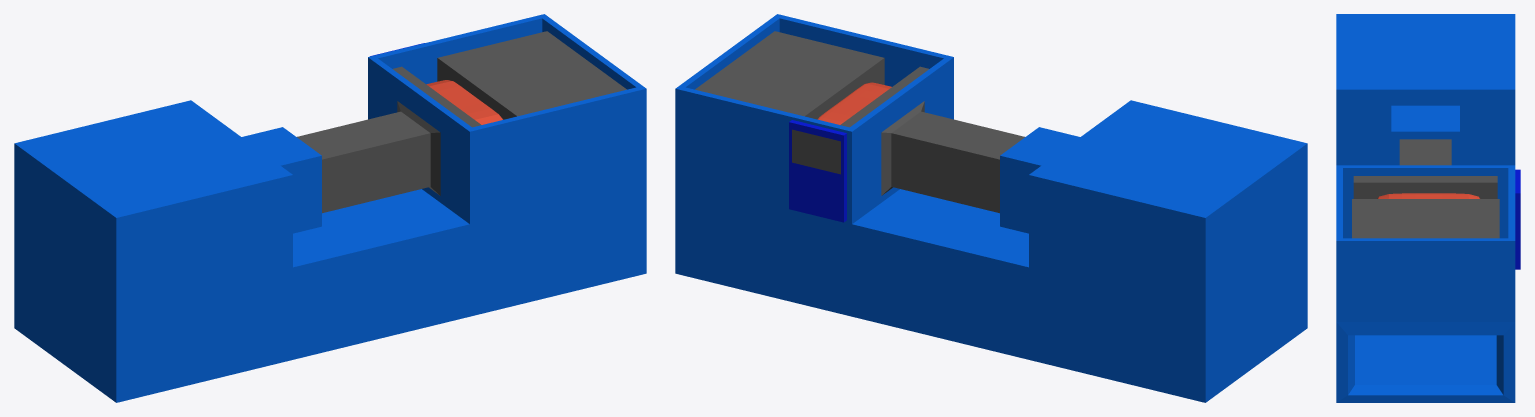
The model's file is Machine_lvl1.fbx.
3 renders of one model, left to right at view 1: azimuth 30°, elevation 25°; view 2: azimuth 150°, elevation 25°; view 3: azimuth 270°, elevation 25°, orthographic. The views are drawn at different scales.
Visible parts, largest first — view 1: Machine_lvl1, Dril_lvl1, Box; view 2: Machine_lvl1, Dril_lvl1, Box; view 3: Machine_lvl1, Dril_lvl1, Box.
Part boxes in pixels (left/top/right/bottom): Machine_lvl1: left=14, top=14, right=646, bottom=402; Dril_lvl1: left=242, top=66, right=481, bottom=233; Box: left=426, top=80, right=502, bottom=124; Machine_lvl1: left=675, top=14, right=1307, bottom=402; Dril_lvl1: left=840, top=66, right=1079, bottom=233; Box: left=817, top=82, right=891, bottom=124; Machine_lvl1: left=1336, top=14, right=1520, bottom=402; Dril_lvl1: left=1353, top=105, right=1497, bottom=198; Box: left=1377, top=193, right=1479, bottom=198.
Size of the model in its own units: 6.01 by 2.06 by 2.
